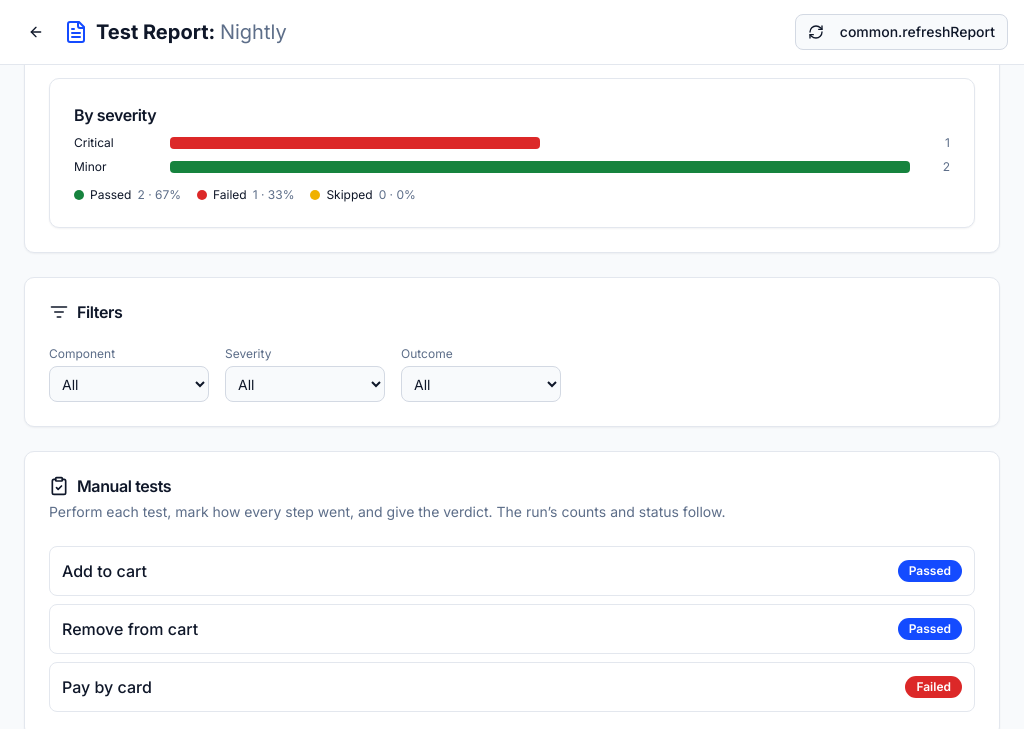
Test case: TestReportPage › filters the failed tests and the results by module, with counts of what is shown
This screenshot has width=1024, height=729.
(page scrolled)
Select "Minor" in the dropdown labelled "Severity" at (305, 384), box [225,366,385,402]
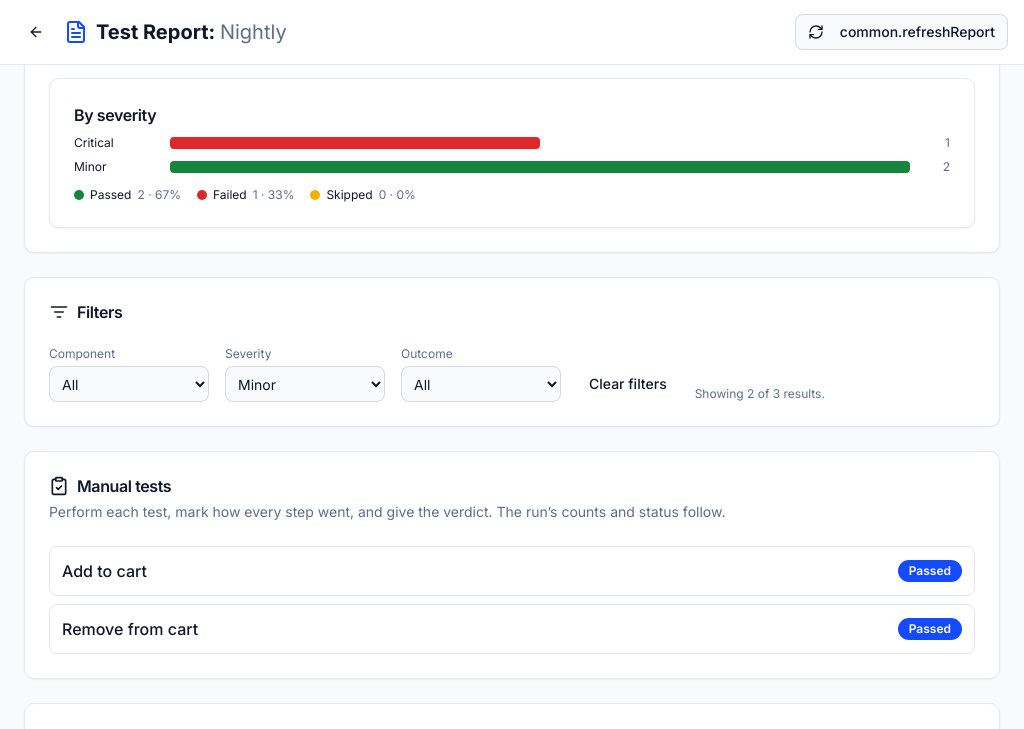
Now the text "Showing 2 of 3 results." is shown, box [695,386,825,402]
Select "All" in the dropdown labelled "Severity" at (305, 384), box [225,366,385,402]
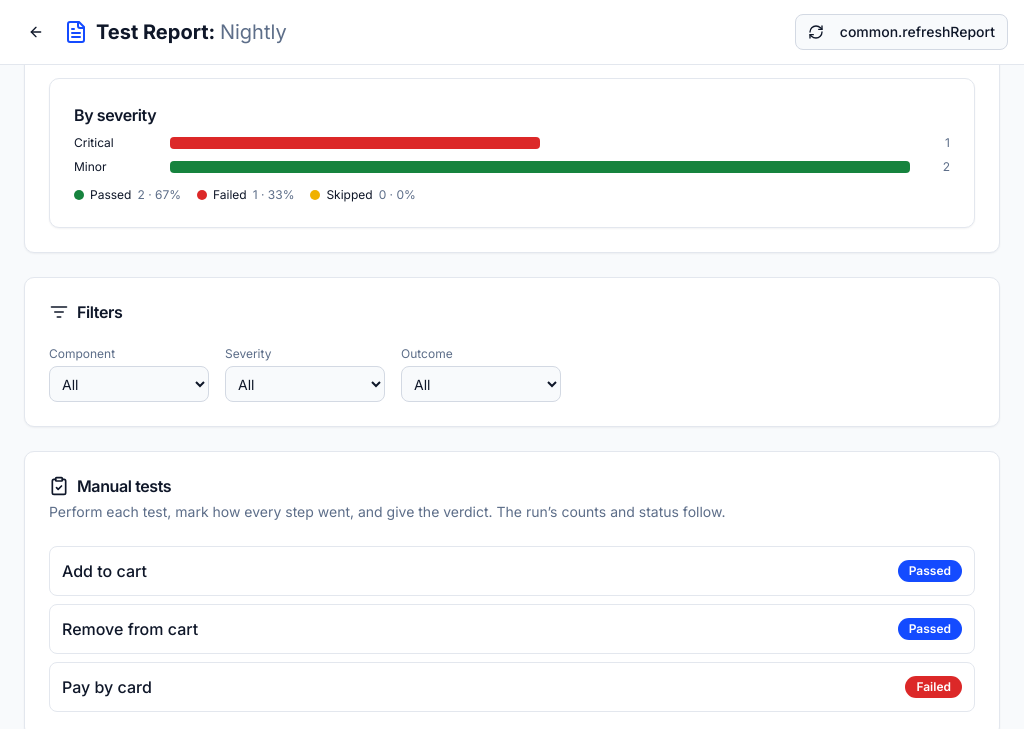
Select "Failed" in the dropdown labelled "Outcome" at (481, 384), box [401,366,561,402]
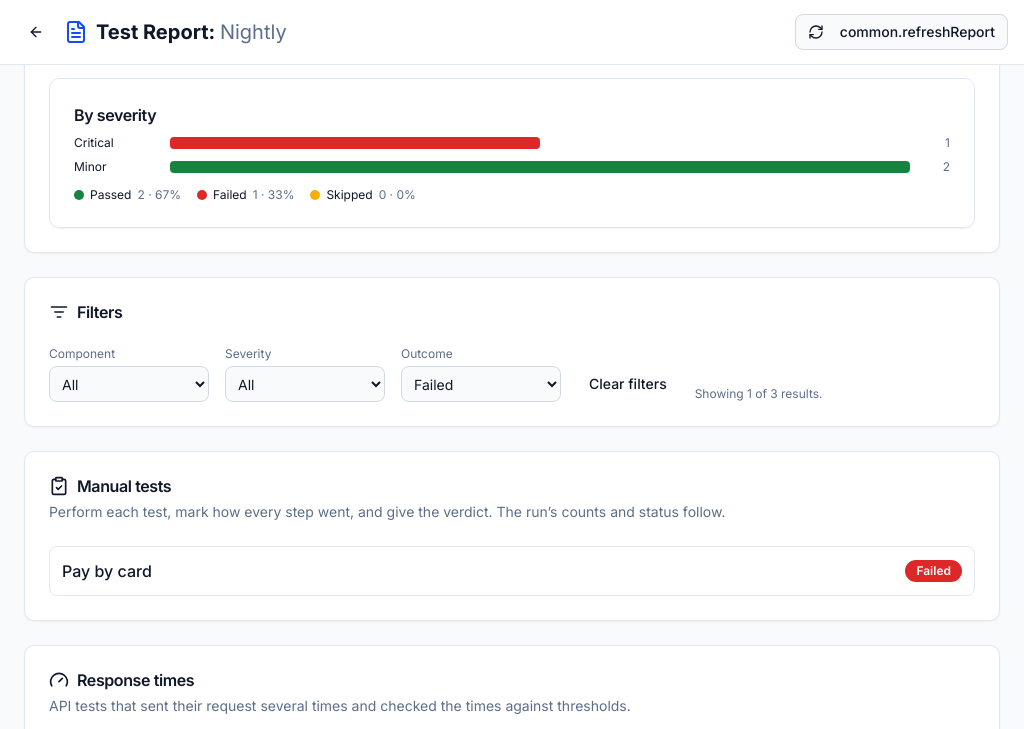
Now the text "Showing 1 of 3 results." is shown, box [695,386,822,402]
Click the button "Clear filters" at (628, 384), box [577,366,679,402]
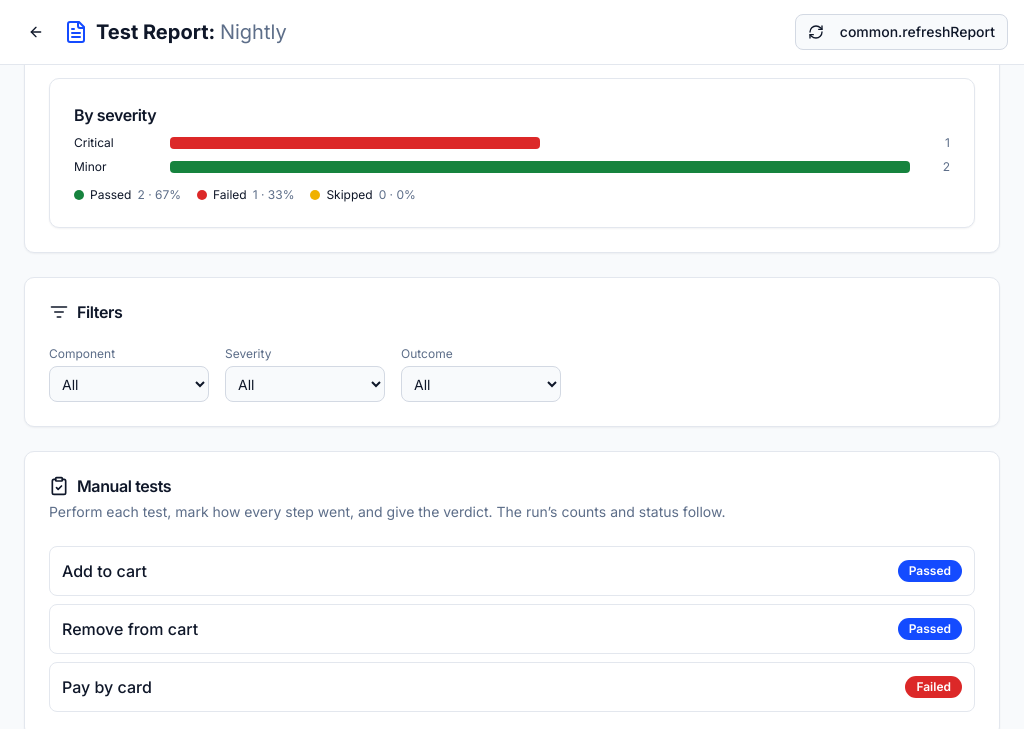
Now the text "Showing" is gone
